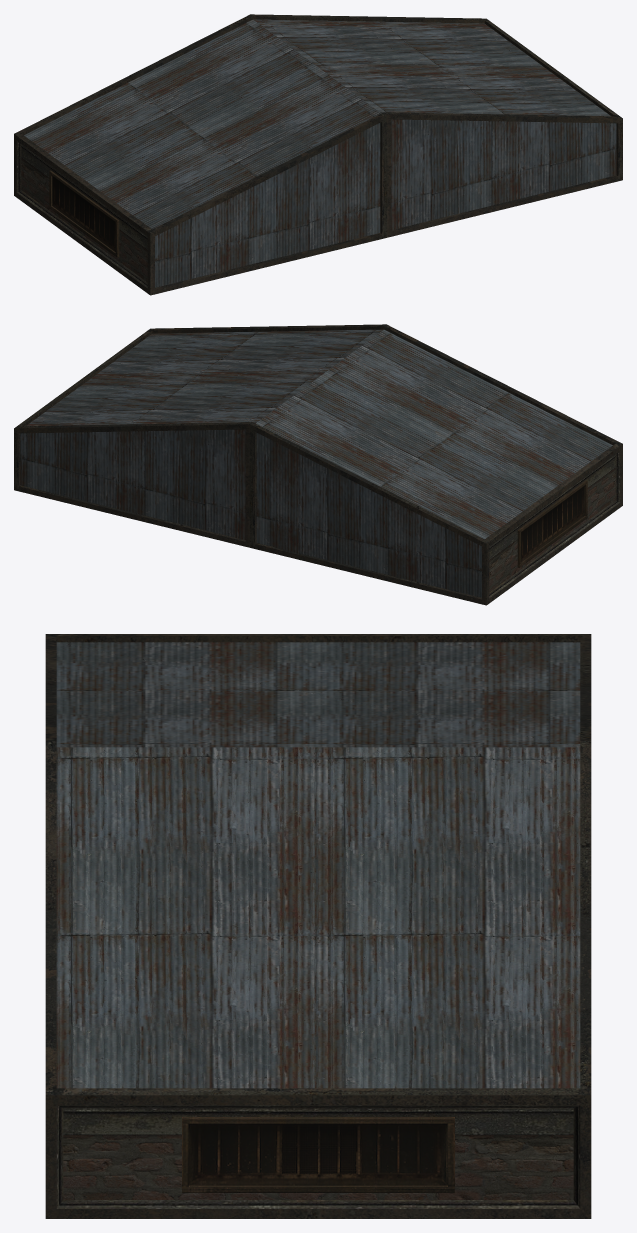
The model's file is roof_mh_4_a_1.obj.
The picture shows the model from 3 angles, top to bottom: view 1: azimuth 30°, elevation 25°; view 2: azimuth 150°, elevation 25°; view 3: azimuth 270°, elevation 25°; orthographic projection. The views are drawn at different scales.
Visible parts, largest first — view 1: roof_mh_4_a_1; view 2: roof_mh_4_a_1; view 3: roof_mh_4_a_1.
Boxes of the visible parts, x1=… form: roof_mh_4_a_1: x1=14, y1=14, x2=622, y2=295; roof_mh_4_a_1: x1=14, y1=324, x2=622, y2=605; roof_mh_4_a_1: x1=45, y1=634, x2=591, y2=1218.
Bounding box in the file's own units: 8 × 2 × 4.
